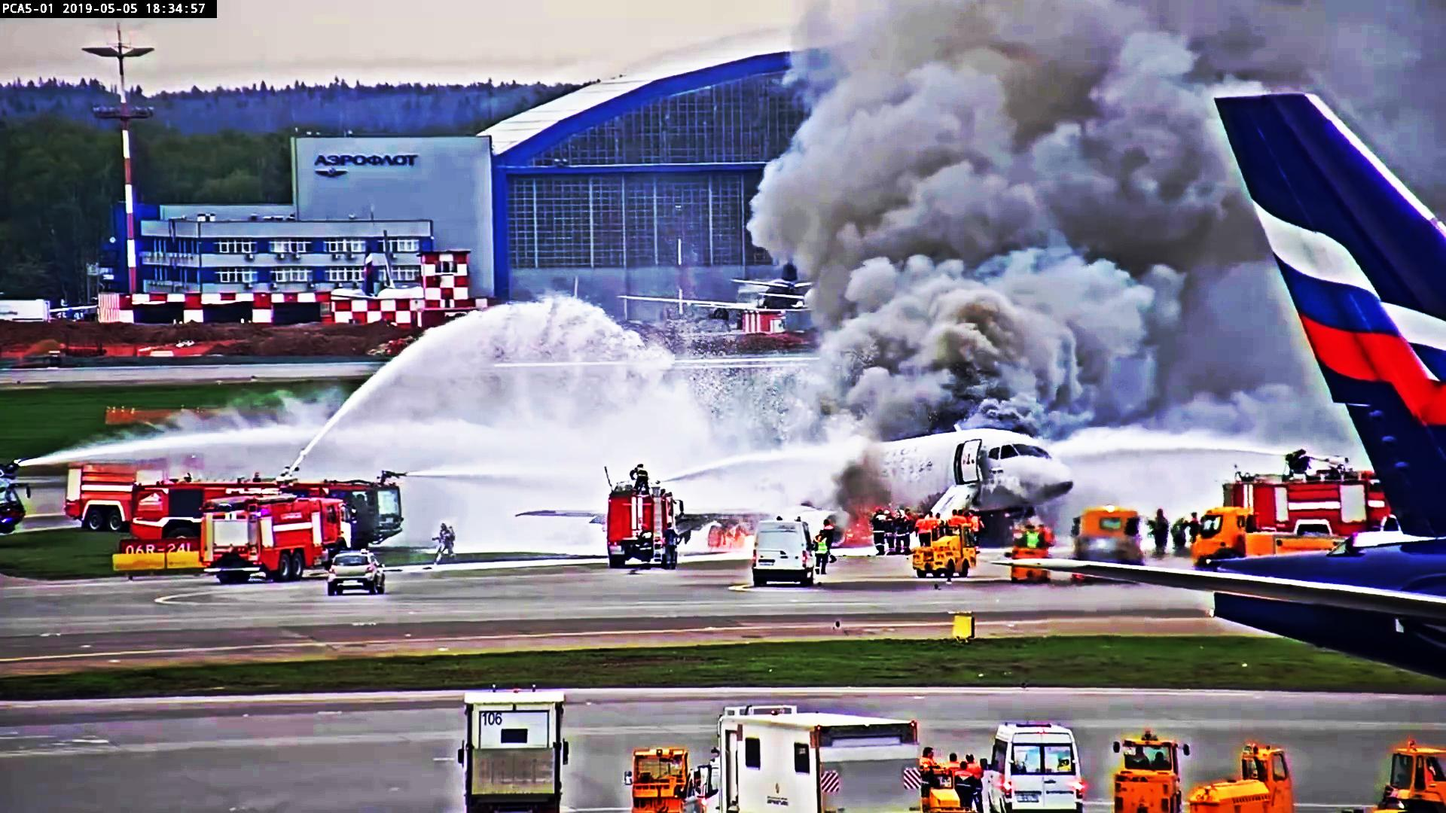smoke: (783, 0, 1141, 356)
